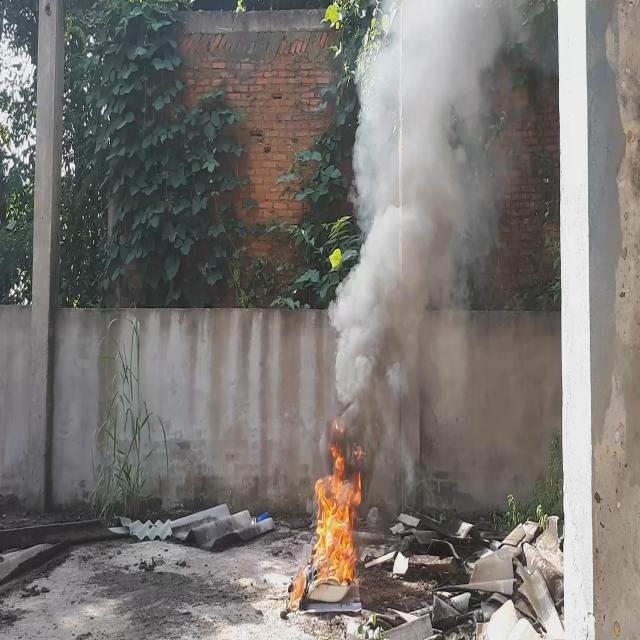Fire: (314, 416, 364, 592)
Smoke: (330, 0, 512, 491)
